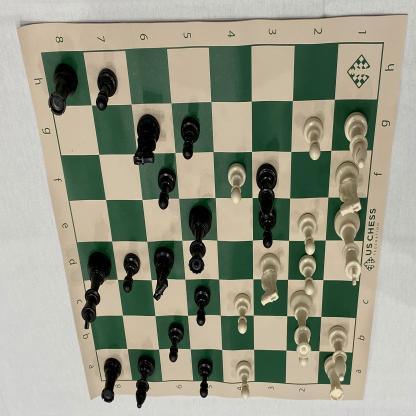black-bishop: (255, 163, 278, 221), (134, 355, 156, 412)
black-king: (80, 252, 111, 332)
black-knight: (132, 113, 160, 168), (152, 246, 174, 301)
black-pawn: (95, 66, 120, 112), (180, 115, 202, 161), (157, 166, 177, 212), (257, 206, 277, 251), (121, 252, 142, 294), (193, 286, 212, 328), (167, 323, 185, 364), (197, 357, 212, 400)
black-queen: (187, 205, 213, 278)
black-rook: (47, 62, 80, 118), (100, 356, 123, 405)
white-bishop: (343, 112, 371, 169), (328, 324, 350, 382)
white-king: (334, 206, 363, 288)
white-knight: (335, 162, 364, 216), (258, 252, 282, 306)
white-pawn: (302, 114, 326, 162), (298, 212, 318, 256), (298, 256, 318, 298), (233, 292, 252, 336), (227, 162, 246, 206), (235, 359, 253, 401), (294, 328, 312, 367)
white-queen: (288, 290, 318, 358)
white-rook: (323, 354, 345, 404)
